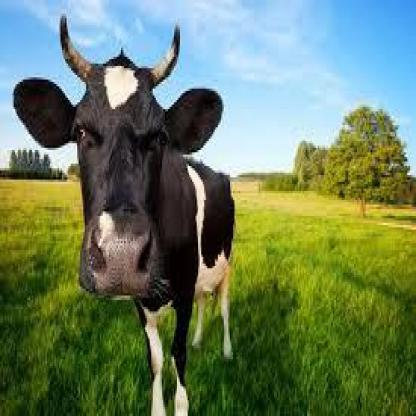cow: (14, 57, 235, 416)
